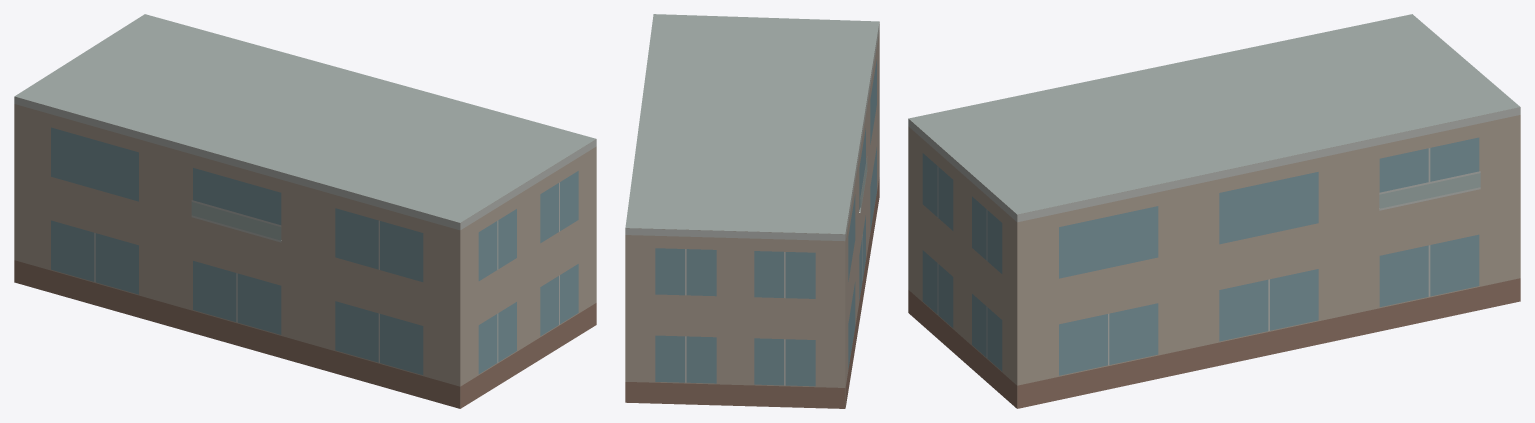
Rendered from survey-upis-33010343.glb.
3 renders of one model, left to right at view 1: azimuth 30°, elevation 25°; view 2: azimuth 150°, elevation 25°; view 3: azimuth 270°, elevation 25°, orthographic. The views are drawn at different scales.
Visible parts, largest first — view 1: survey-upis-33010343.tmp; view 2: survey-upis-33010343.tmp; view 3: survey-upis-33010343.tmp.
Boxes of the visible parts, left/top/right/bottom form: survey-upis-33010343.tmp: left=14, top=14, right=596, bottom=408; survey-upis-33010343.tmp: left=625, top=14, right=879, bottom=408; survey-upis-33010343.tmp: left=908, top=14, right=1520, bottom=408.
Bounding box in the file's own units: 13.51 × 6.1 × 17.43.
